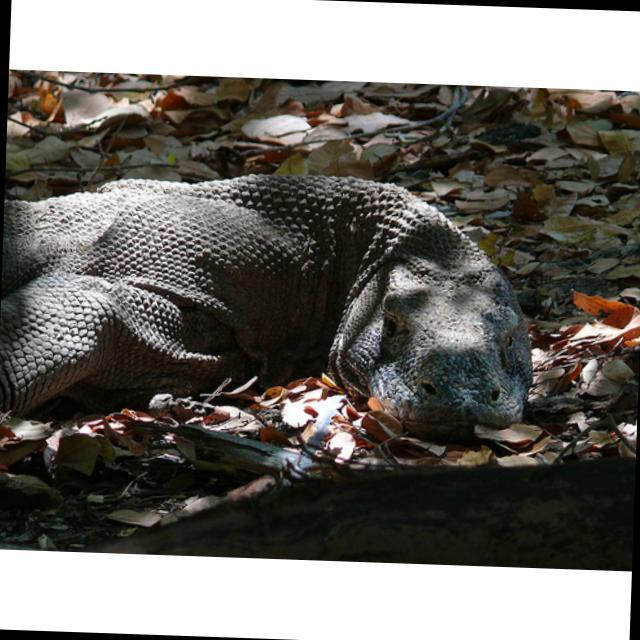KomodoDragon: (0, 163, 538, 439)
